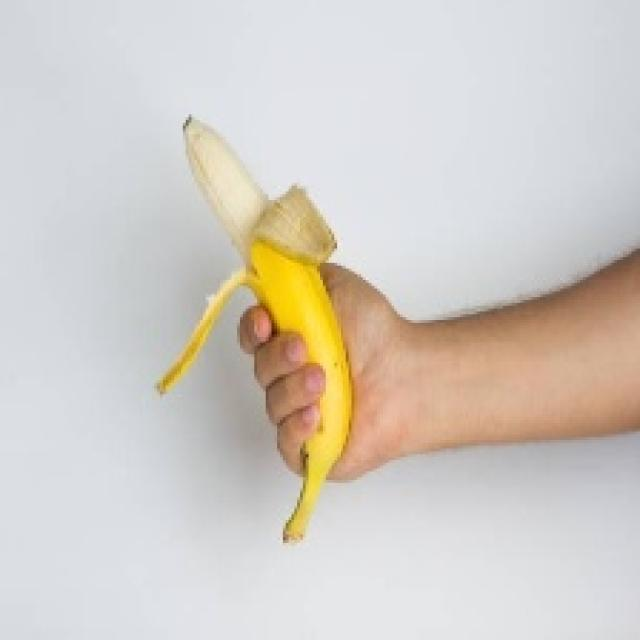Banana: (154, 111, 352, 543)
